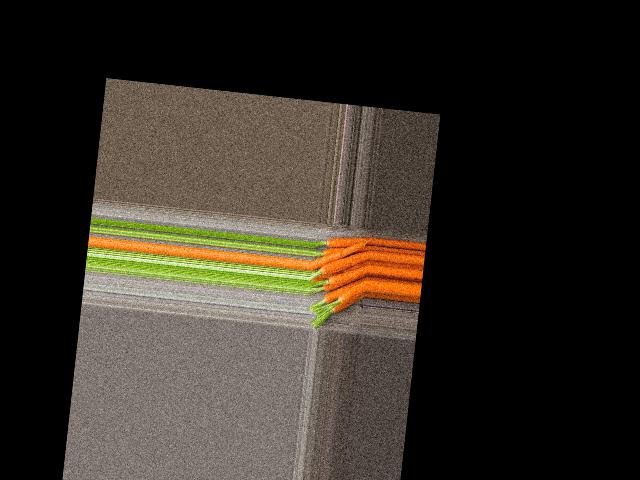carrot: (314, 278, 365, 307)
